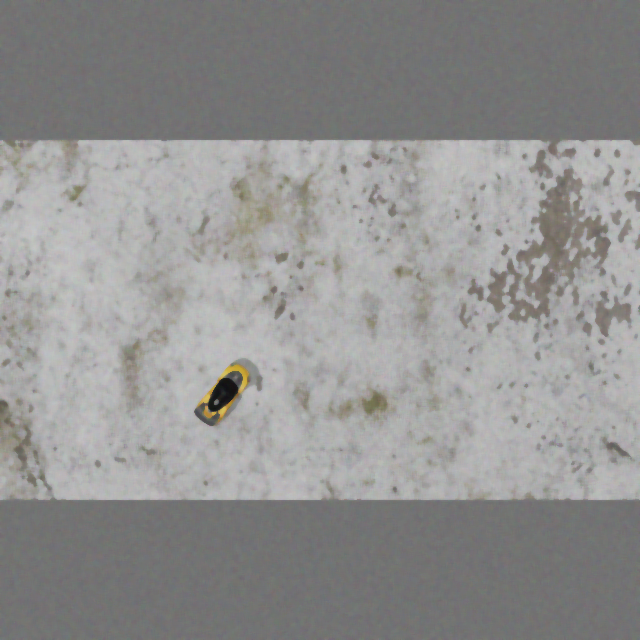car: (189, 358, 257, 431)
